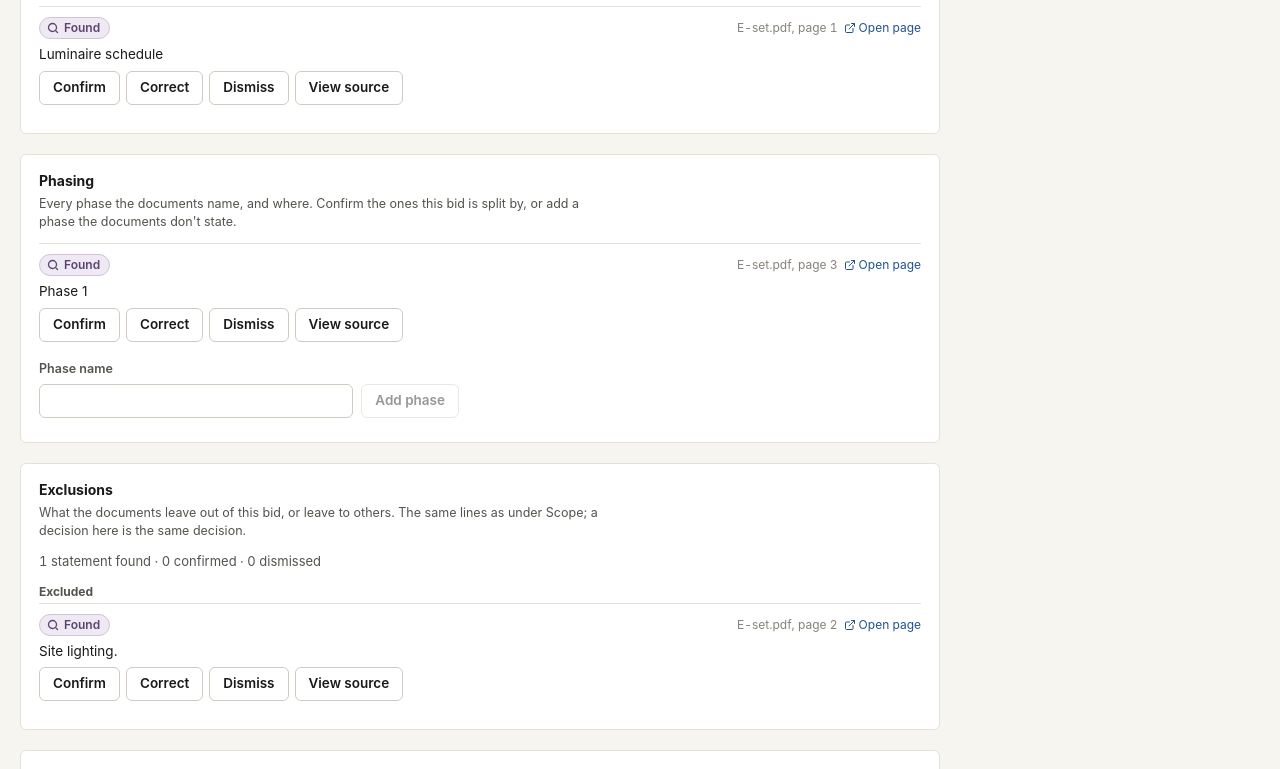
Test: PlanWorkspace › adds and removes a phase through the store
The image size is (1280, 769).
(page scrolled)
Type "Phase 2" into the field labelled "Phase name".
click(196, 401); type("Phase 2")  # box x1=39 y1=384 x2=353 y2=418
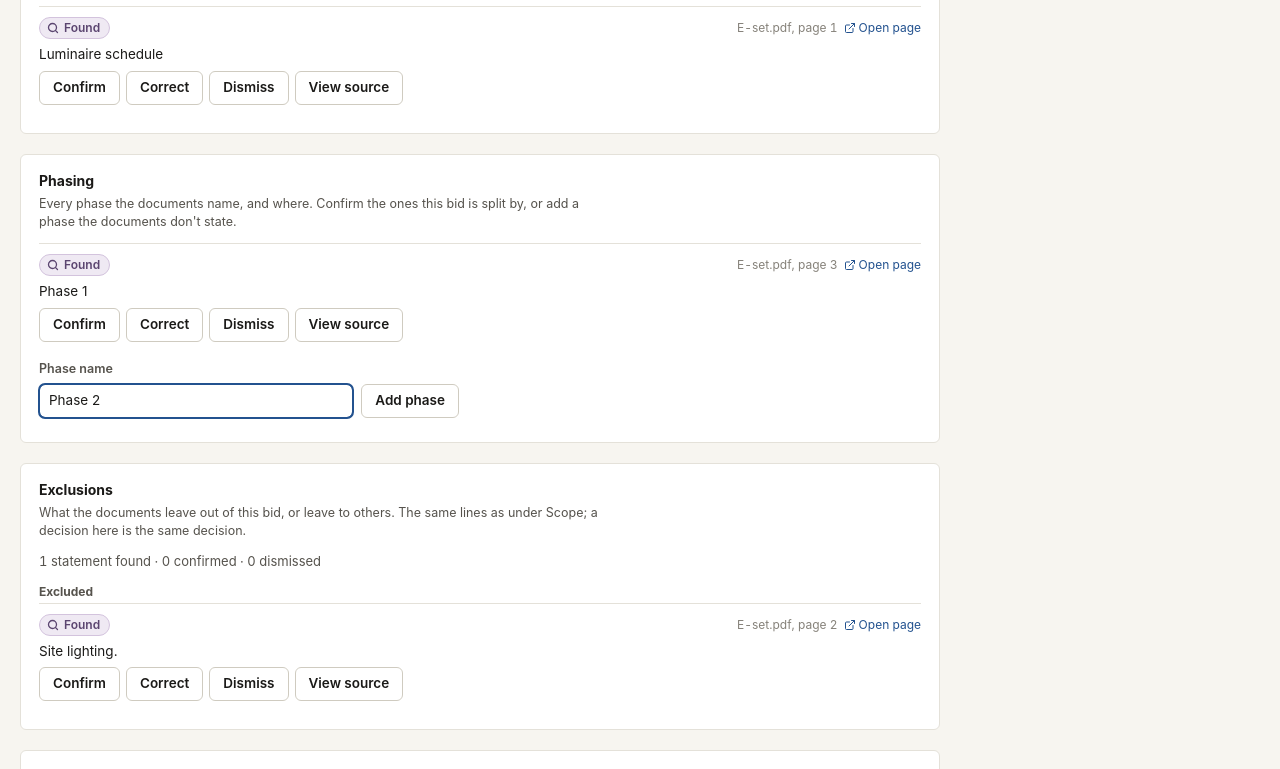
Click the button "Add phase".
click(410, 401)  # box x1=361 y1=384 x2=459 y2=418
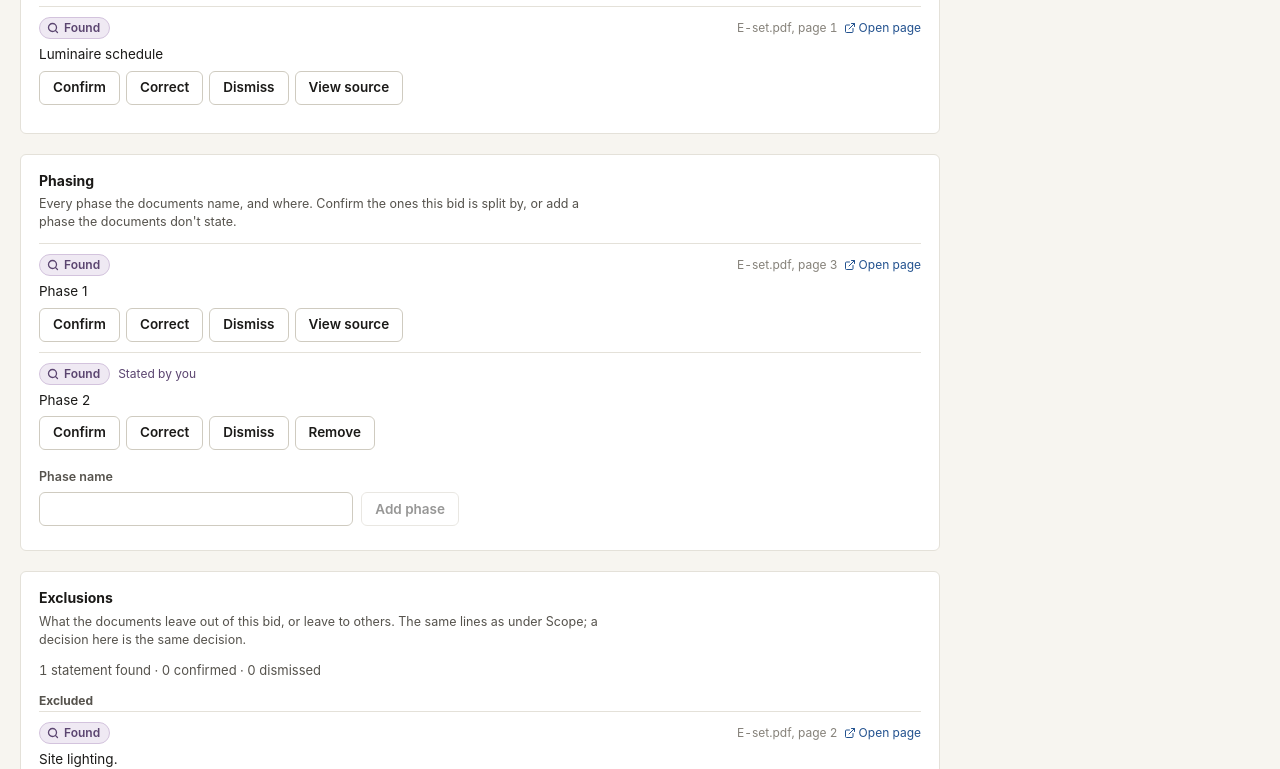
expect the text "Stated by you" is shown: met, box x1=118 y1=365 x2=196 y2=382
Click the button "Remove".
click(335, 433)  # box x1=294 y1=416 x2=375 y2=450
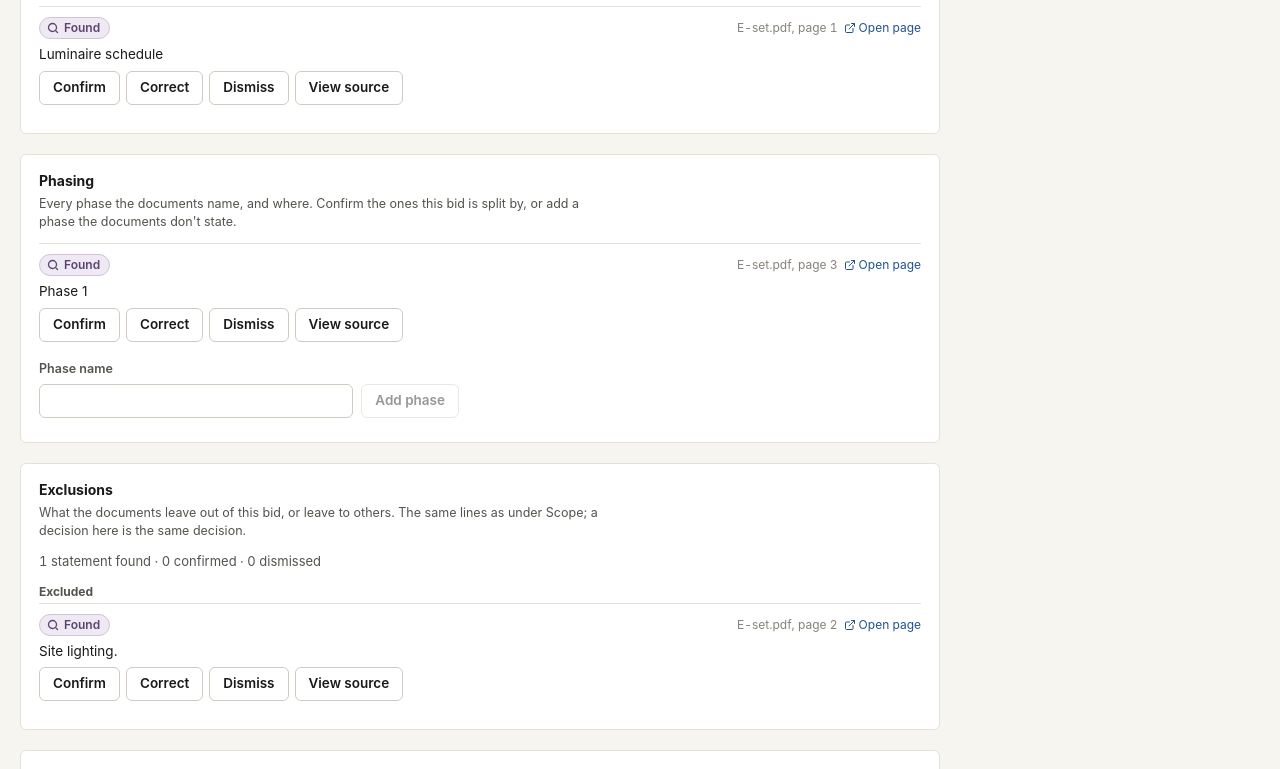
expect the text "Stated by you" is gone: met
